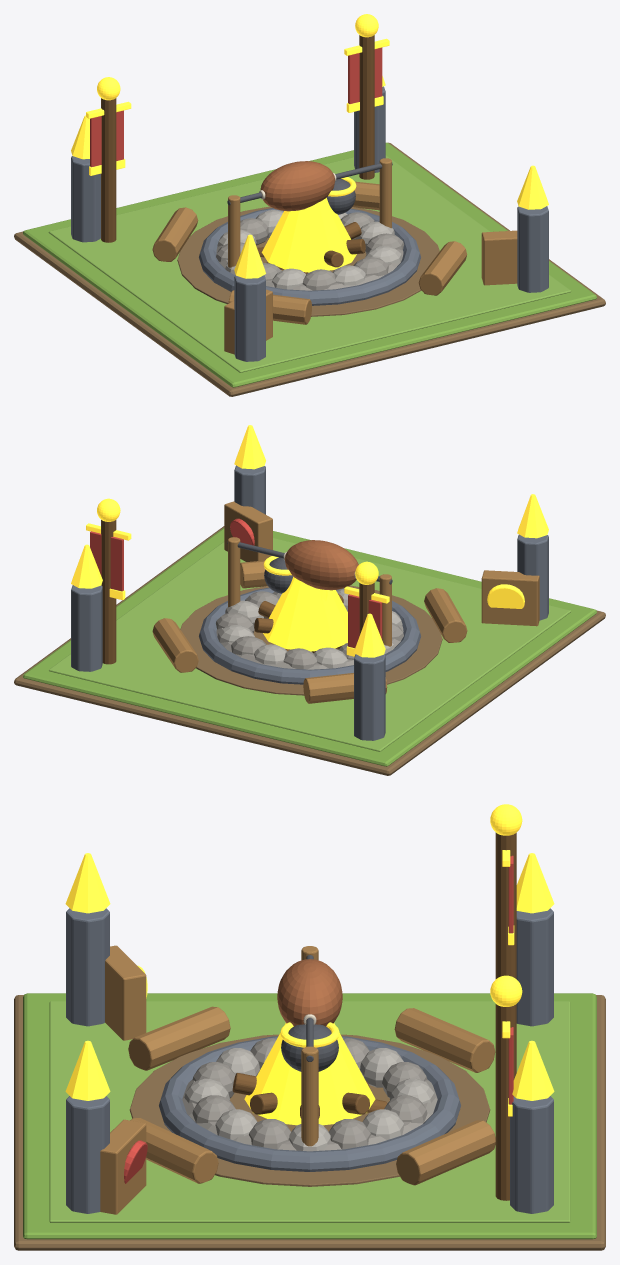
File: army_camp_lv8.glb
The picture shows the model from 3 angles, top to bottom: view 1: azimuth 30°, elevation 25°; view 2: azimuth 150°, elevation 25°; view 3: azimuth 270°, elevation 25°; orthographic projection. The views are drawn at different scales.
Parts seen in each view (by area): view 1: Base_Inner, Base_Grass, Base_Dirt, CampDirtPatch, FlameOuter, AC_OuterRing, RoastMeat, AC_CornerPillar_-1_-1, AC_CornerPillar_1_-1, AC_CornerPillar_-1_1, TotemPole_-1, TotemPole_1 (+19 smaller); view 2: Base_Inner, Base_Grass, Base_Dirt, CampDirtPatch, FlameOuter, AC_OuterRing, RoastMeat, AC_CornerPillar_1_1, AC_CornerPillar_-1_1, CampRackFrame_-1, TotemPole_1, CampRackFrame_1 (+23 smaller); view 3: Base_Inner, Base_Grass, Base_Dirt, AC_OuterRing, CampDirtPatch, FlameOuter, AC_CornerPillar_1_1, AC_CornerPillar_-1_-1, AC_CornerPillar_1_-1, AC_CornerPillar_-1_1, LogBench_3.90, LogBench_2.35 (+32 smaller).
Boxes of the visible parts, box(x1,y1,x2,y2) form: Base_Inner: box(48, 155, 571, 372); Base_Grass: box(23, 142, 596, 387); Base_Dirt: box(14, 142, 605, 396); CampDirtPatch: box(177, 206, 439, 316); FlameOuter: box(261, 197, 356, 272); AC_OuterRing: box(199, 208, 420, 305); RoastMeat: box(260, 161, 335, 211); AC_CornerPillar_-1_-1: box(234, 275, 265, 361); AC_CornerPillar_1_-1: box(517, 206, 548, 292); AC_CornerPillar_-1_1: box(71, 156, 100, 242); TotemPole_-1: box(101, 98, 116, 242); TotemPole_1: box(359, 35, 374, 179); Base_Inner: box(49, 538, 571, 751); Base_Grass: box(23, 528, 596, 766); Base_Dirt: box(14, 526, 605, 775); CampDirtPatch: box(180, 585, 442, 695); FlameOuter: box(263, 576, 347, 651); AC_OuterRing: box(199, 587, 420, 684); RoastMeat: box(284, 540, 358, 590); AC_CornerPillar_1_1: box(71, 585, 102, 671); AC_CornerPillar_-1_1: box(354, 654, 385, 740); CampRackFrame_-1: box(481, 570, 539, 626); TotemPole_1: box(101, 520, 116, 664); CampRackFrame_1: box(224, 501, 272, 561); Base_Inner: box(49, 1001, 570, 1222); Base_Grass: box(23, 993, 596, 1239); Base_Dirt: box(14, 995, 605, 1250); AC_OuterRing: box(159, 1036, 460, 1171); CampDirtPatch: box(129, 1034, 490, 1186); FlameOuter: box(244, 1023, 375, 1125); AC_CornerPillar_1_1: box(510, 1096, 553, 1213); AC_CornerPillar_-1_-1: box(66, 908, 109, 1026); AC_CornerPillar_1_-1: box(66, 1096, 109, 1213); AC_CornerPillar_-1_1: box(516, 908, 553, 1026); LogBench_3.90: box(128, 1006, 230, 1070); LogBench_2.35: box(394, 1008, 495, 1072).
Bounding box in the file's own units: 3.68 × 1.64 × 3.68.
